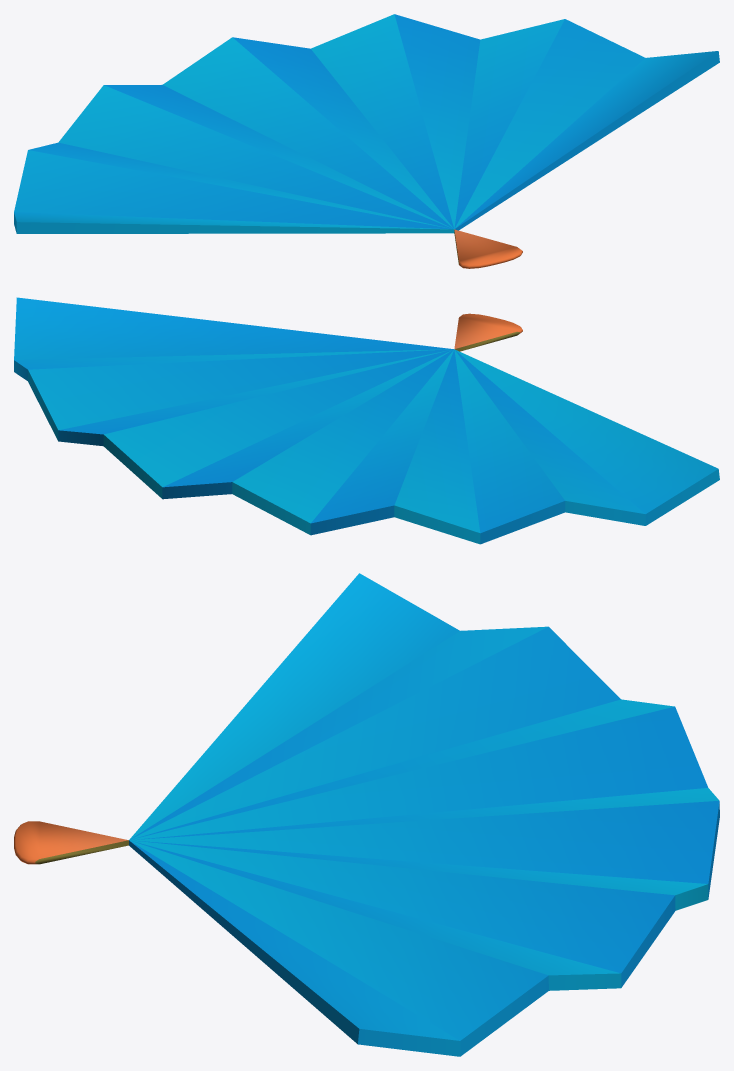
File: MedievelToyNewColor 1.fbx
3 renders of one model, top to bottom at view 1: azimuth 30°, elevation 25°; view 2: azimuth 150°, elevation 25°; view 3: azimuth 270°, elevation 25°, orthographic. The views are drawn at different scales.
Visible parts, largest first — view 1: Circle; view 2: Circle; view 3: Circle.
Part boxes in pixels (x1,y1,x2,y2): Circle: [14, 14, 719, 268]; Circle: [14, 297, 719, 544]; Circle: [14, 573, 719, 1056].
Bounding box in the file's own units: 1.85 × 0.0966 × 1.21.
Materials: 1 (1 with a texture image).
